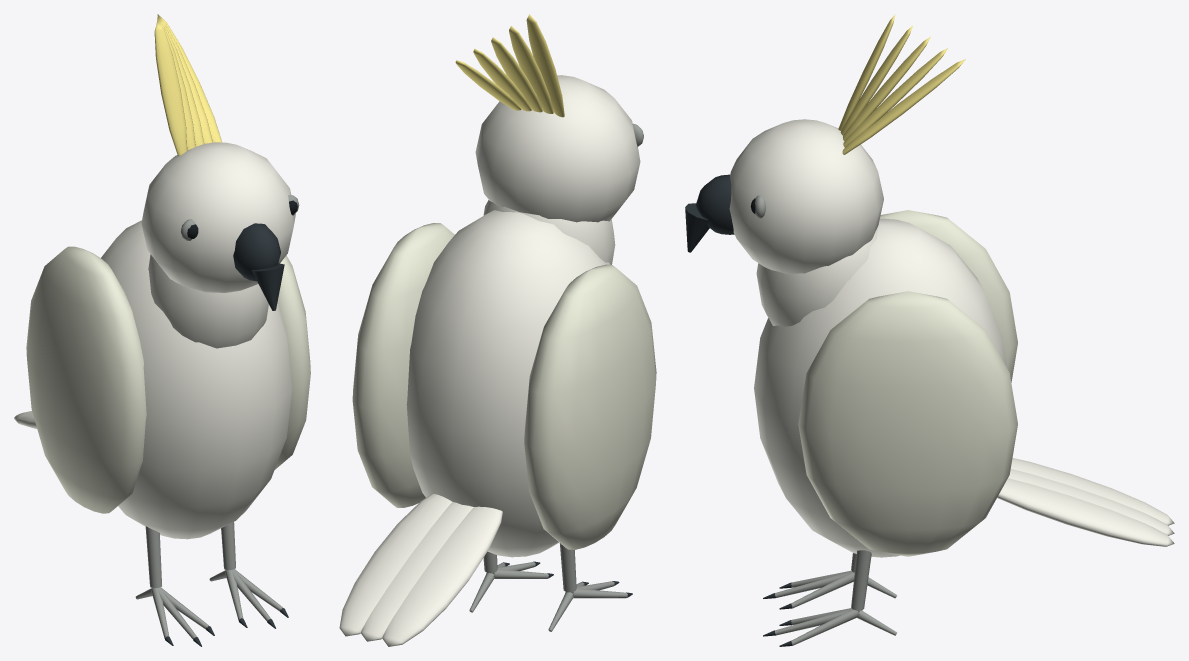
File: bird_yellow_crested_cockatoo.glb
3 views of the same model, side by side, from view 1: azimuth 30°, elevation 25°; view 2: azimuth 150°, elevation 25°; view 3: azimuth 270°, elevation 25° (orthographic). The views are drawn at different scales.
Parts seen in each view (by area): view 1: Cockatoo_White_Body, Cockatoo_Folded_Wing_-1, Cockatoo_White_Head, Cockatoo_White_Neck, Cockatoo_Folded_Wing_1, Cockatoo_Yellow_Crest_Feather_0, Cockatoo_Black_Beak_Base, Cockatoo_Hooked_Beak, Cockatoo_Leg_-1, Cockatoo_Yellow_Crest_Feather_4, Cockatoo_Yellow_Crest_Feather_3, Cockatoo_Yellow_Crest_Feather_2 (+2 smaller); view 2: Cockatoo_White_Body, Cockatoo_Folded_Wing_-1, Cockatoo_White_Head, Cockatoo_Folded_Wing_1, Cockatoo_Long_White_Tail_0, Cockatoo_Long_White_Tail_2, Cockatoo_Long_White_Tail_1, Cockatoo_White_Neck, Cockatoo_Yellow_Crest_Feather_0, Cockatoo_Yellow_Crest_Feather_1, Cockatoo_Yellow_Crest_Feather_2, Cockatoo_Yellow_Crest_Feather_3 (+3 smaller); view 3: Cockatoo_Folded_Wing_1, Cockatoo_White_Body, Cockatoo_White_Head, Cockatoo_White_Neck, Cockatoo_Long_White_Tail_2, Cockatoo_Folded_Wing_-1, Cockatoo_Long_White_Tail_0, Cockatoo_Long_White_Tail_1, Cockatoo_Black_Beak_Base, Cockatoo_Yellow_Crest_Feather_4, Cockatoo_Yellow_Crest_Feather_3, Cockatoo_Yellow_Crest_Feather_2 (+4 smaller).
Boxes of the visible parts, bbox=[...] form: Cockatoo_White_Body: bbox=[101, 220, 292, 539]; Cockatoo_Folded_Wing_-1: bbox=[26, 246, 146, 513]; Cockatoo_White_Head: bbox=[141, 142, 295, 292]; Cockatoo_White_Neck: bbox=[148, 254, 268, 348]; Cockatoo_Folded_Wing_1: bbox=[274, 255, 310, 469]; Cockatoo_Yellow_Crest_Feather_0: bbox=[154, 21, 187, 156]; Cockatoo_Black_Beak_Base: bbox=[233, 223, 280, 281]; Cockatoo_Hooked_Beak: bbox=[251, 263, 284, 310]; Cockatoo_Leg_-1: bbox=[145, 526, 161, 588]; Cockatoo_Yellow_Crest_Feather_4: bbox=[157, 14, 222, 142]; Cockatoo_Yellow_Crest_Feather_3: bbox=[157, 16, 212, 143]; Cockatoo_Yellow_Crest_Feather_2: bbox=[157, 18, 204, 146]; Cockatoo_White_Body: bbox=[406, 210, 609, 557]; Cockatoo_Folded_Wing_-1: bbox=[524, 264, 656, 549]; Cockatoo_White_Head: bbox=[475, 75, 640, 222]; Cockatoo_Folded_Wing_1: bbox=[352, 223, 454, 507]; Cockatoo_Long_White_Tail_0: bbox=[382, 506, 502, 646]; Cockatoo_Long_White_Tail_2: bbox=[339, 493, 452, 636]; Cockatoo_Long_White_Tail_1: bbox=[361, 502, 473, 641]; Cockatoo_White_Neck: bbox=[483, 200, 615, 264]; Cockatoo_Yellow_Crest_Feather_0: bbox=[526, 14, 564, 117]; Cockatoo_Yellow_Crest_Feather_1: bbox=[509, 26, 553, 113]; Cockatoo_Yellow_Crest_Feather_2: bbox=[491, 37, 542, 112]; Cockatoo_Yellow_Crest_Feather_3: bbox=[473, 48, 531, 111]; Cockatoo_Folded_Wing_1: bbox=[798, 291, 1017, 556]; Cockatoo_White_Body: bbox=[754, 218, 1006, 557]; Cockatoo_White_Head: bbox=[729, 119, 883, 273]; Cockatoo_White_Neck: bbox=[756, 226, 878, 326]; Cockatoo_Long_White_Tail_2: bbox=[997, 478, 1174, 546]; Cockatoo_Folded_Wing_-1: bbox=[880, 210, 1017, 382]; Cockatoo_Long_White_Tail_0: bbox=[1011, 458, 1174, 525]; Cockatoo_Long_White_Tail_1: bbox=[1008, 469, 1174, 535]; Cockatoo_Black_Beak_Base: bbox=[696, 174, 734, 234]; Cockatoo_Yellow_Crest_Feather_4: bbox=[842, 59, 965, 154]; Cockatoo_Yellow_Crest_Feather_3: bbox=[843, 48, 947, 147]; Cockatoo_Yellow_Crest_Feather_2: bbox=[843, 36, 930, 141].
Size of the model in its own units: 0.216 by 0.5196 by 0.3875.
